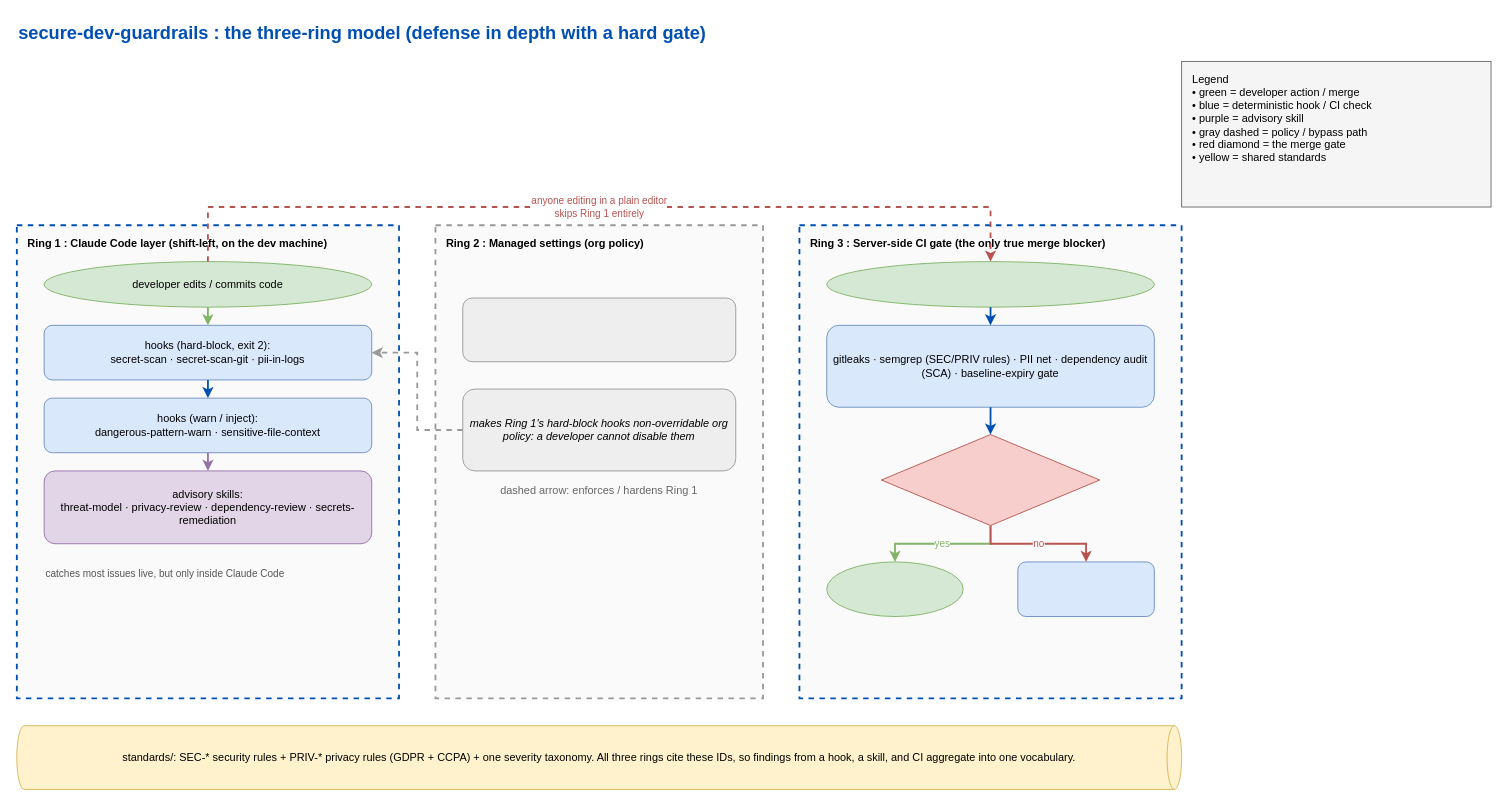
Image size: 1507x805. Some labels were removed from this diagram. The shapes that lost their labels are listed below. From the top down, each one's centre as x and y in pixels, then its label:
At (x=990, y=284): "on every pull request / push (server-side)".
At (x=599, y=329): "managed-settings.json pushed via MDM (Jamf / Intune / Ansible)".
At (x=990, y=480): "clean? (block | warn dial)".
At (x=894, y=589): "merge to main".
At (x=1085, y=589): "merge blocked fix + re-push".
